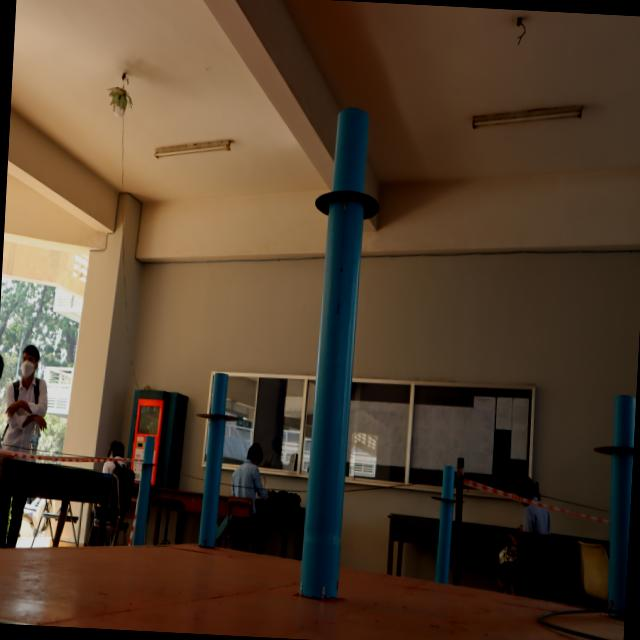pole: (288, 102, 397, 284), (598, 392, 636, 516), (193, 371, 245, 461), (431, 464, 466, 540), (124, 435, 168, 488)
